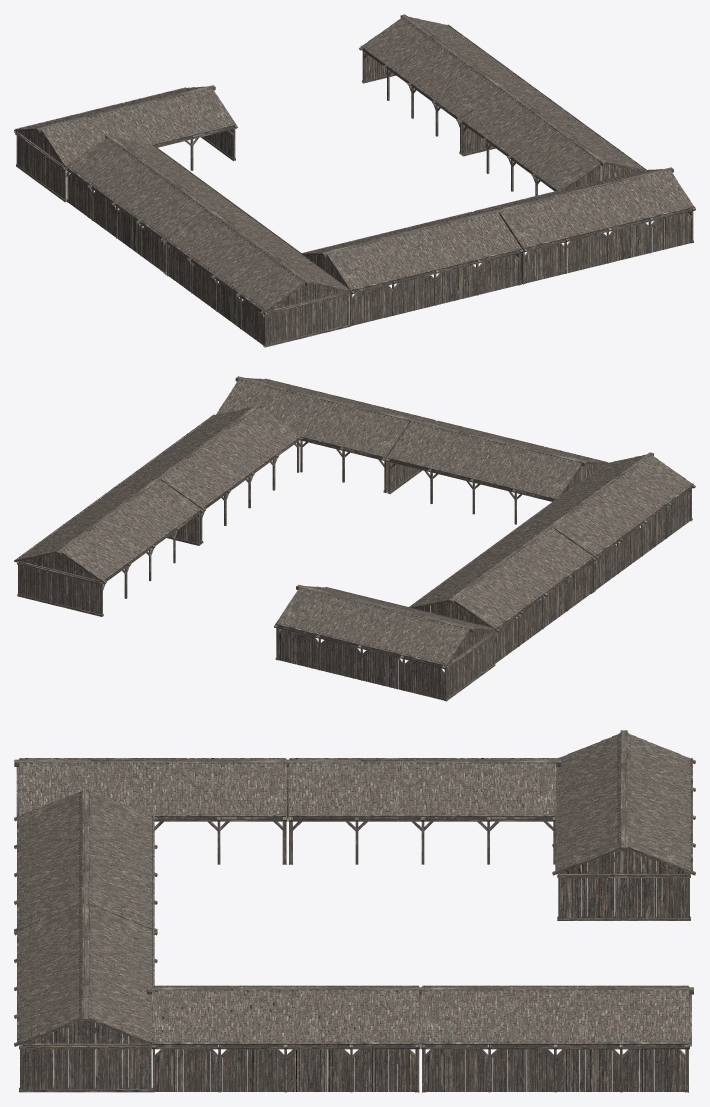
File: house1.glb
The picture shows the model from 3 angles, top to bottom: view 1: azimuth 30°, elevation 25°; view 2: azimuth 150°, elevation 25°; view 3: azimuth 270°, elevation 25°; orthographic projection. The views are drawn at different scales.
Parts seen in each view (by area): view 1: House_Farm_wood_6_House Farm wood_0; view 2: House_Farm_wood_6_House Farm wood_0; view 3: House_Farm_wood_6_House Farm wood_0.
Part boxes in pixels (x1,y1,x2,y2): House_Farm_wood_6_House Farm wood_0: (14, 14, 695, 347); House_Farm_wood_6_House Farm wood_0: (14, 376, 695, 701); House_Farm_wood_6_House Farm wood_0: (14, 730, 695, 1092).
Bounding box in the file's own units: 51.87 × 6.39 × 51.75.
1 material, 1 textured.
